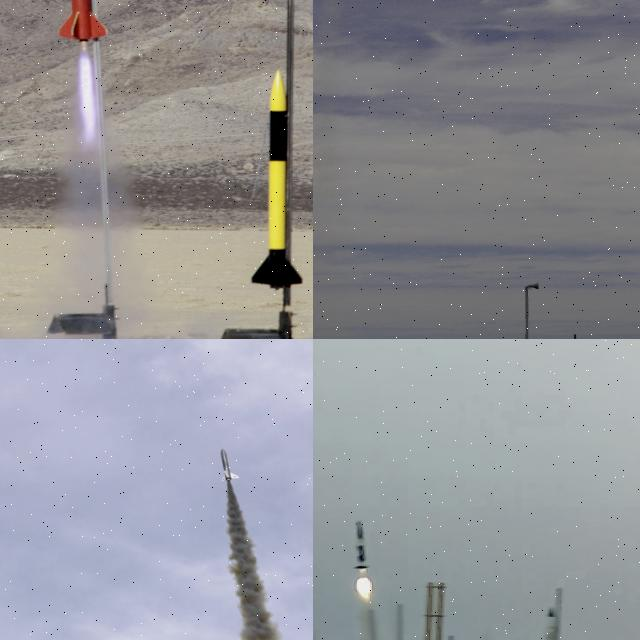Rocket: (249, 67, 304, 292), (350, 519, 371, 569), (535, 605, 561, 640), (218, 448, 240, 484)
